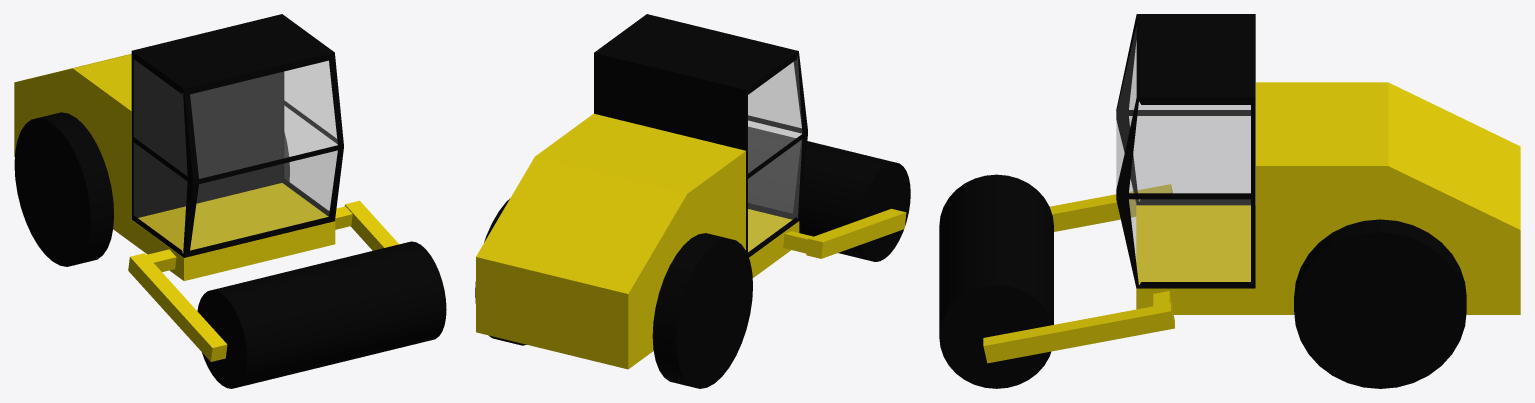
The model's file is Excavator.fbx.
The picture shows the model from 3 angles, left to right: view 1: azimuth 30°, elevation 25°; view 2: azimuth 150°, elevation 25°; view 3: azimuth 270°, elevation 25°; orthographic projection. The views are drawn at different scales.
Visible parts, largest first — view 1: ExcavatorBody, ExcavatorRoller, ExcavatorWheels; view 2: ExcavatorBody, ExcavatorWheels, ExcavatorRoller; view 3: ExcavatorBody, ExcavatorWheels, ExcavatorRoller.
Part boxes in pixels (bbox=[...]): ExcavatorBody: bbox=[14, 14, 398, 361]; ExcavatorRoller: bbox=[197, 241, 446, 388]; ExcavatorWheels: bbox=[14, 112, 289, 266]; ExcavatorBody: bbox=[476, 14, 906, 369]; ExcavatorWheels: bbox=[475, 199, 752, 388]; ExcavatorRoller: bbox=[748, 126, 910, 261]; ExcavatorBody: bbox=[983, 14, 1520, 363]; ExcavatorWheels: bbox=[1294, 219, 1466, 388]; ExcavatorRoller: bbox=[939, 174, 1053, 388].
Size of the model in its own units: 544 by 554 by 1050.
